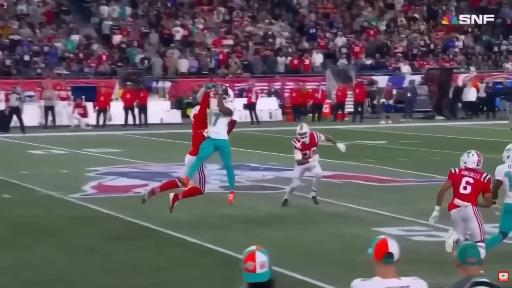Helmet: (460, 151, 482, 168), (296, 123, 310, 143), (502, 144, 512, 163), (190, 105, 200, 122), (222, 89, 234, 101)
Jersey: (448, 168, 491, 211), (188, 92, 209, 156), (292, 132, 324, 159), (208, 109, 232, 139), (495, 164, 511, 202), (188, 127, 207, 156)
Player: (178, 83, 234, 203), (429, 151, 492, 256), (282, 123, 345, 206), (486, 144, 511, 250), (181, 89, 209, 175)
